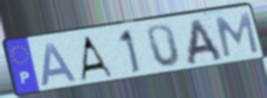0: (146, 23, 183, 70)
1: (117, 28, 144, 75)
A: (186, 17, 226, 67), (39, 41, 79, 88), (78, 34, 115, 82)
M: (213, 11, 261, 60)
